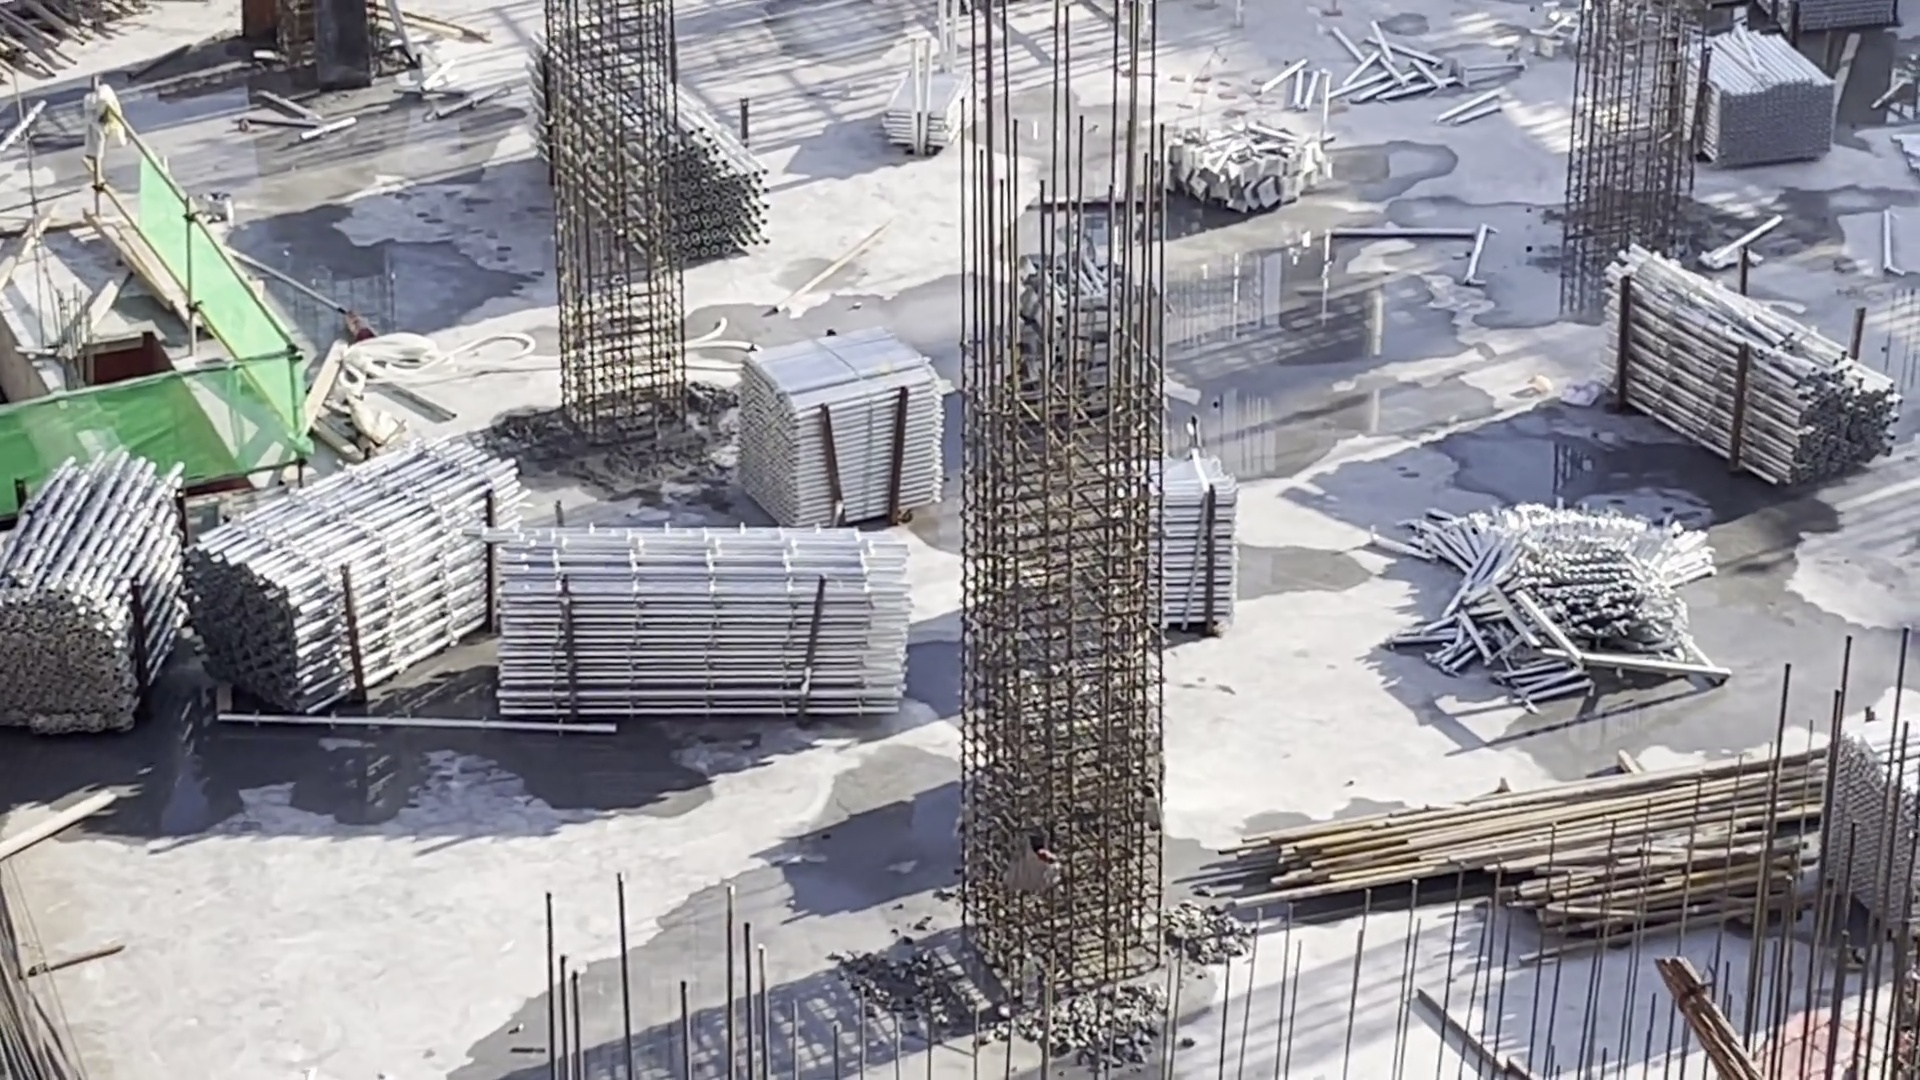scaffold: (489, 535, 899, 711), (207, 458, 513, 686), (1415, 488, 1712, 691), (1635, 284, 1865, 488), (551, 58, 765, 265), (9, 483, 181, 737), (749, 373, 940, 531), (1116, 468, 1237, 640), (1706, 47, 1826, 169), (1851, 728, 1917, 931), (882, 71, 972, 141), (1792, 1, 1884, 33)
